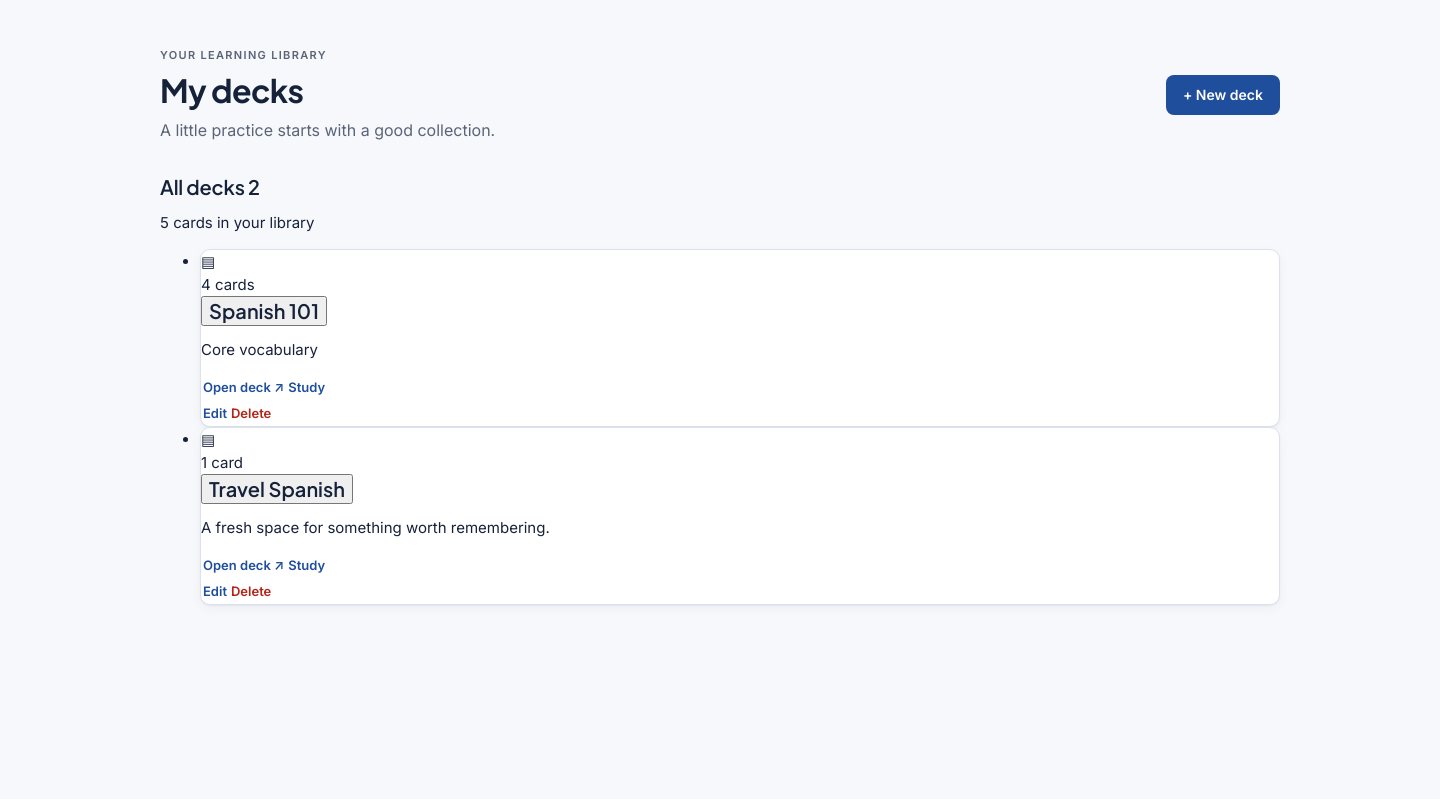
Scenario: + New deck opens the form, and Cancel closes it
What coordinates should you click on to do the following:
click the button "+ New deck"
I would click on:
 (1223, 95)
Its box is [1166, 75, 1280, 115].
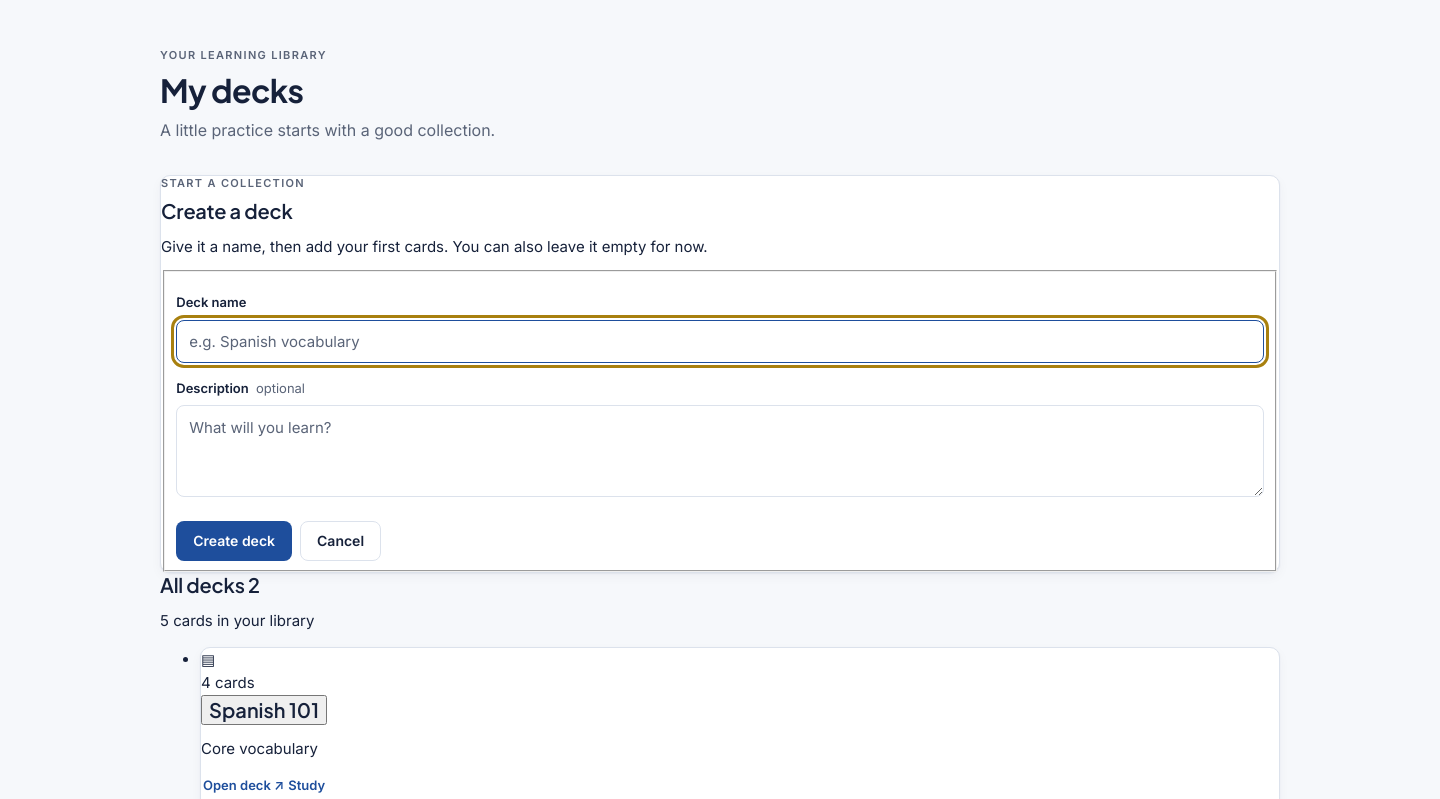
Expected: the heading "Create a deck" is shown, [161, 198, 292, 223]
What coordinates should you click on to do the following:
click the button "Cancel"
I would click on:
 (340, 541)
Its box is [300, 521, 381, 561].
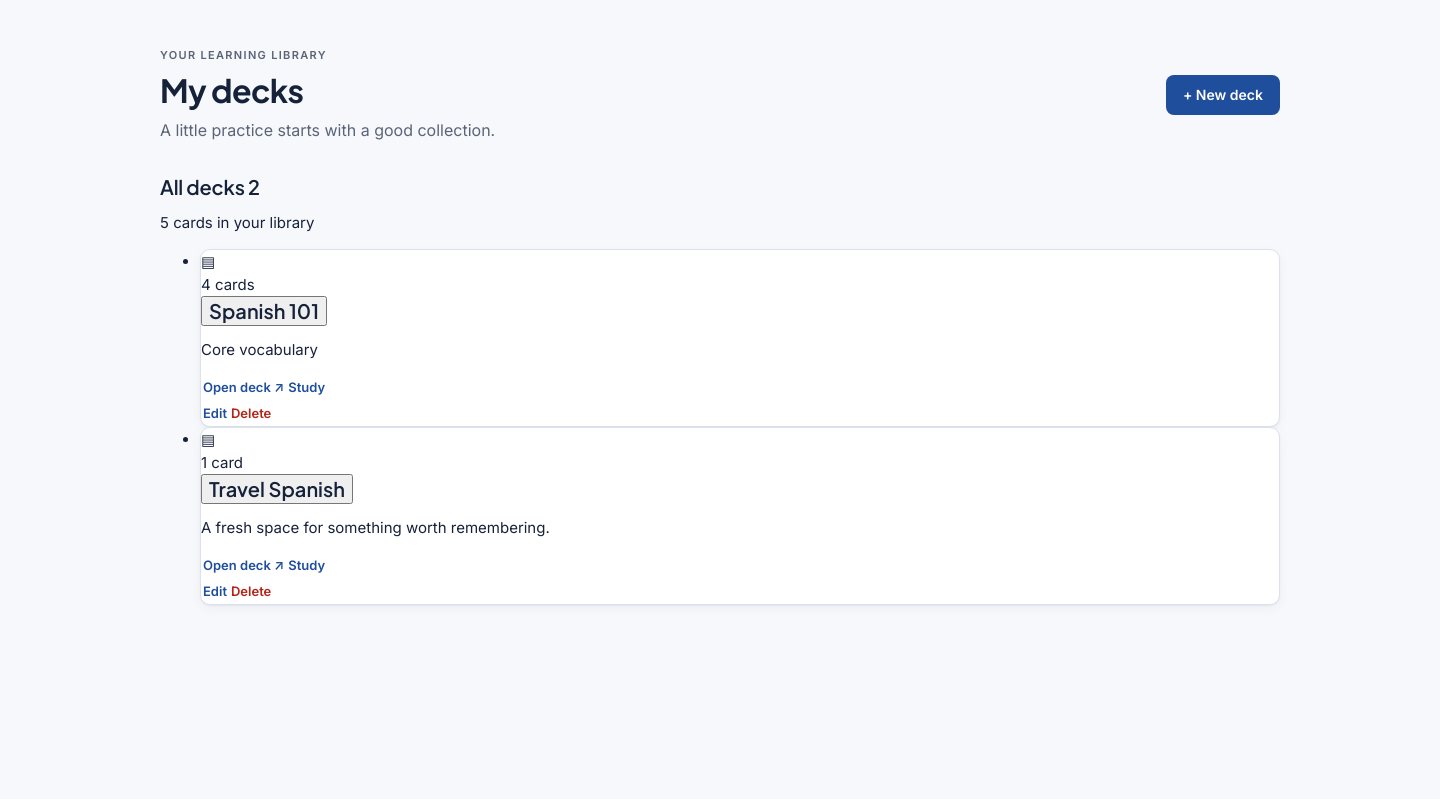
Expected: the heading "Create a deck" is gone
